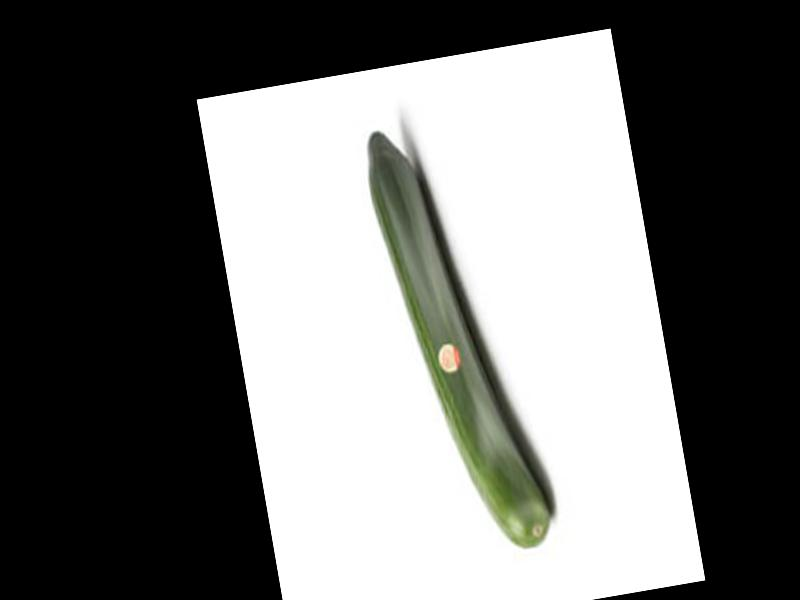Cucumber: (360, 113, 555, 567)
